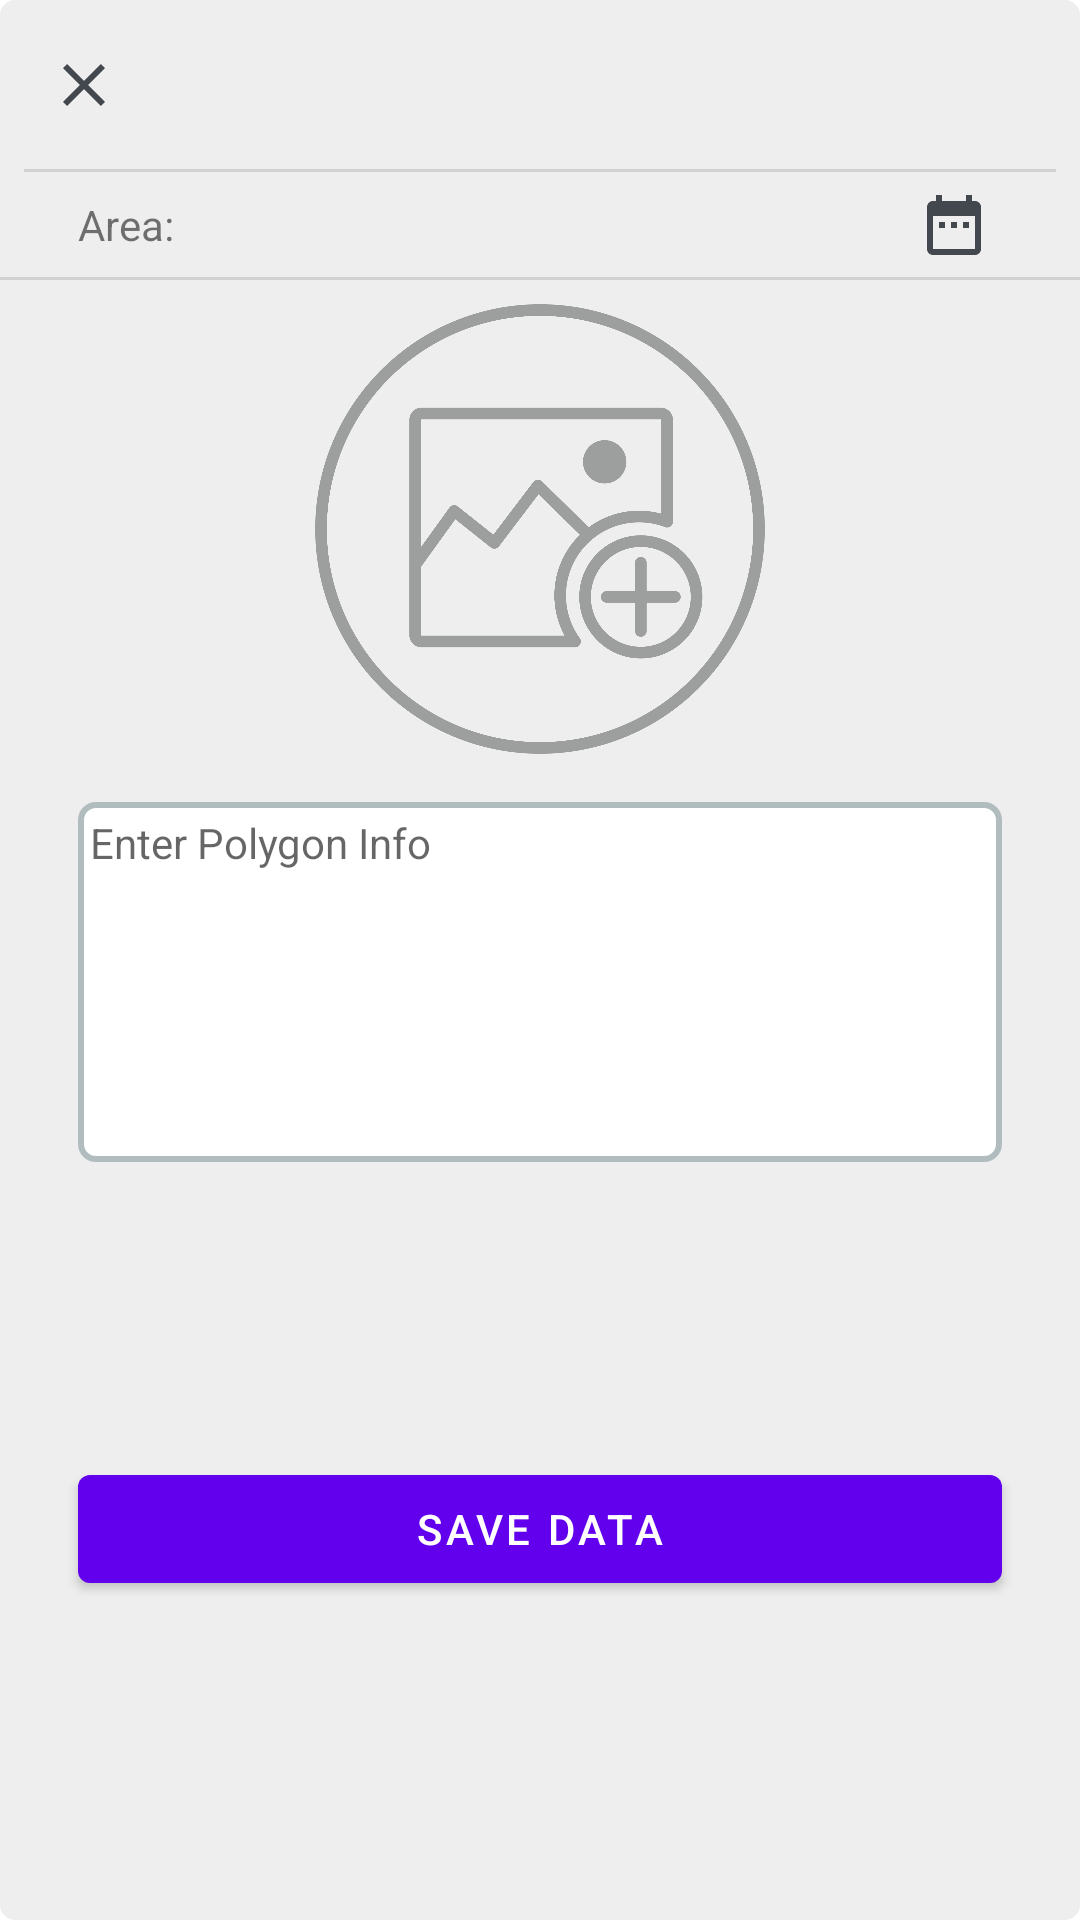

Icons on this 1080w x 1920h Android screen, each with its box as (x1, y1, x2, y2):
close: (63, 64, 105, 106)
